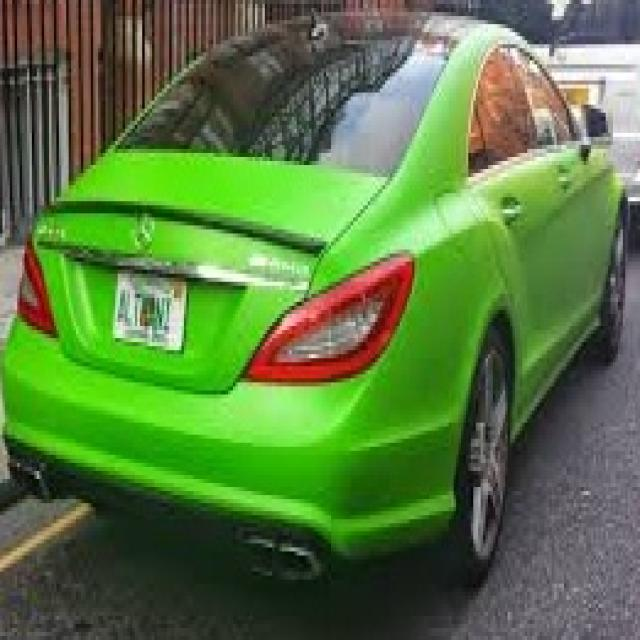green: (5, 17, 628, 593)
